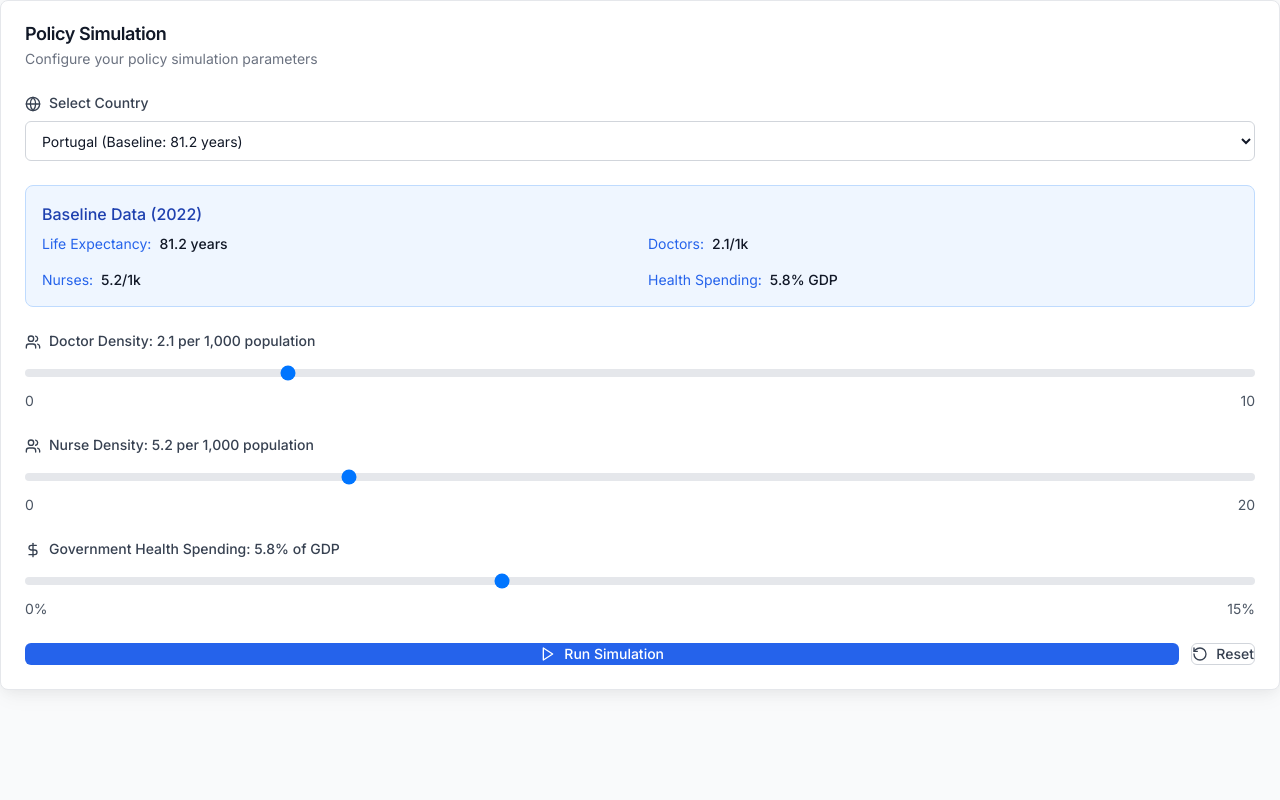
Test: SimulationCardNew › updates parameters when sliders are moved
Check: the text "Doctor Density: 2.1 per 1,000 population" is shown, box [25, 332, 315, 350]
Step 1. Set the slider showing "2.1" below "Doctor Density:" to "3.0" → (397, 373), box [25, 369, 1255, 377]
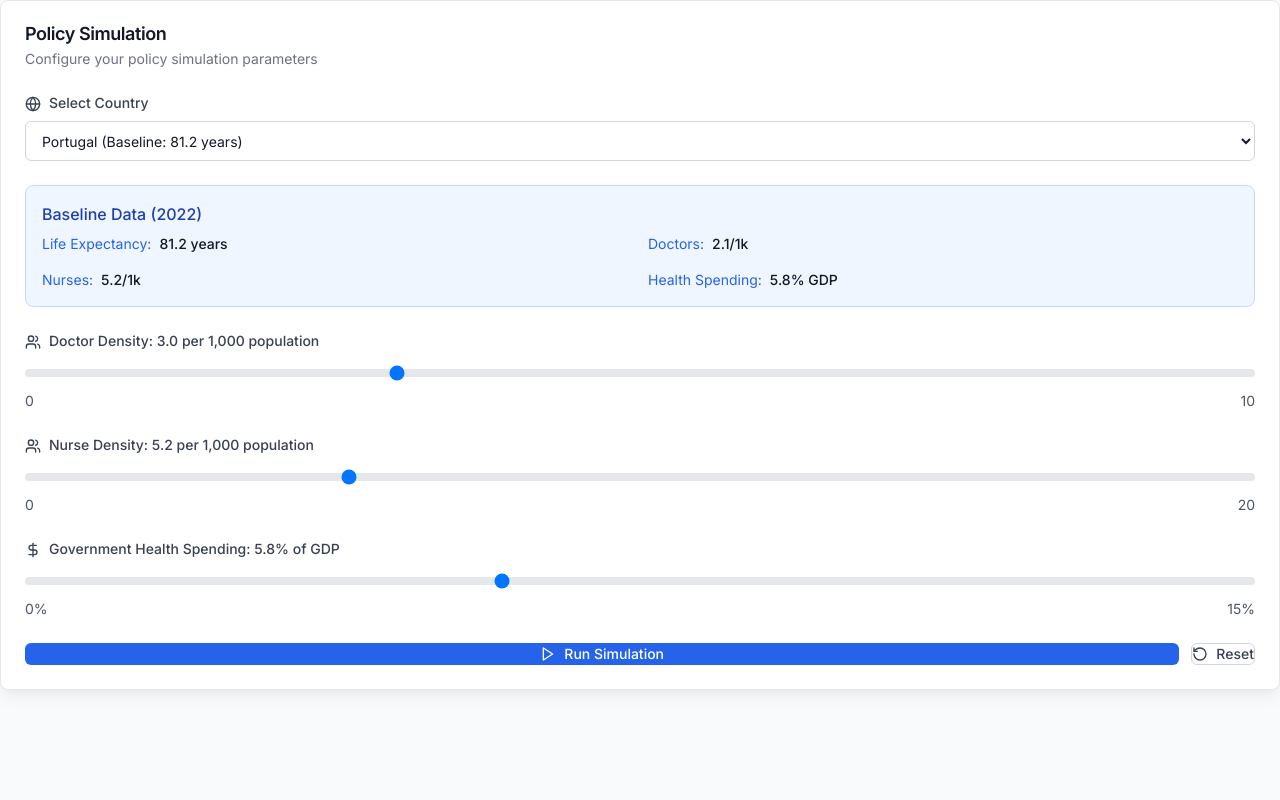
Check: the text "Doctor Density: 3.0 per 1,000 population" is shown, box [25, 332, 319, 350]
